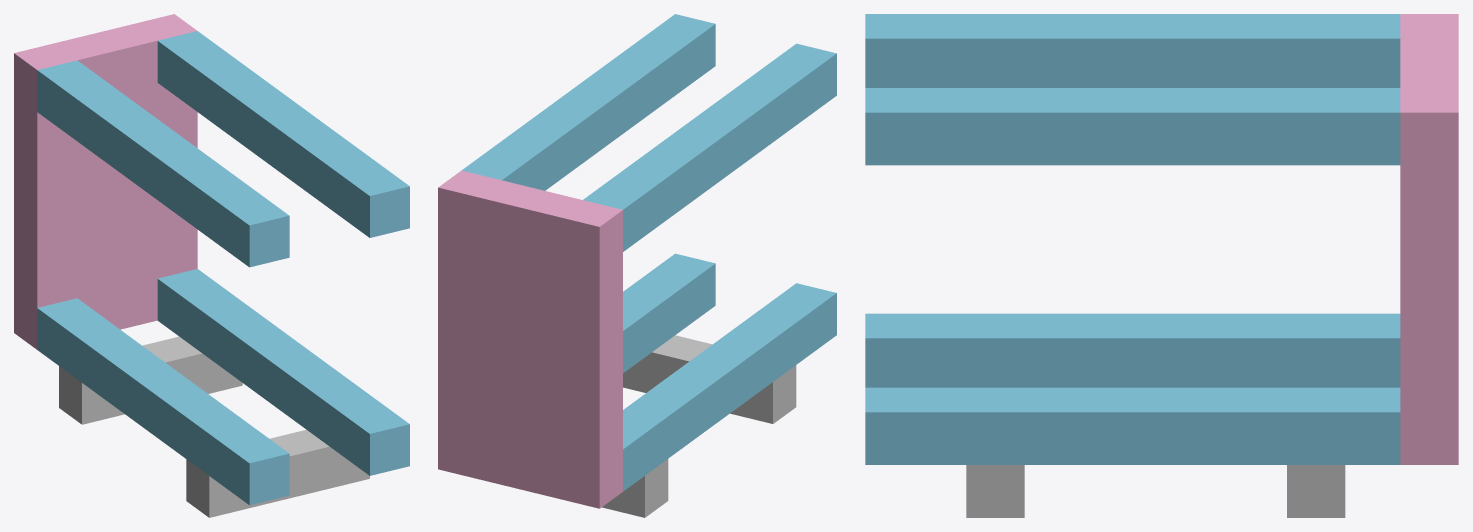
File: tinker.obj
3 renders of one model, left to right at view 1: azimuth 30°, elevation 25°; view 2: azimuth 150°, elevation 25°; view 3: azimuth 270°, elevation 25°, orthographic. The views are drawn at different scales.
Visible parts, largest first — view 1: group_0_8768998, group_0_15708628, group_0_15277357; view 2: group_0_8768998, group_0_15708628, group_0_15277357; view 3: group_0_8768998, group_0_15708628, group_0_15277357.
Boxes of the visible parts, bbox=[...] form: group_0_8768998: bbox=[37, 31, 409, 505]; group_0_15708628: bbox=[14, 14, 197, 349]; group_0_15277357: bbox=[59, 336, 369, 517]; group_0_8768998: bbox=[461, 14, 836, 491]; group_0_15708628: bbox=[438, 170, 622, 508]; group_0_15277357: bbox=[602, 335, 796, 517]; group_0_8768998: bbox=[865, 14, 1400, 464]; group_0_15708628: bbox=[1400, 14, 1458, 464]; group_0_15277357: bbox=[966, 465, 1345, 517].
Bounding box in the file's own units: 48 × 92 × 122.
